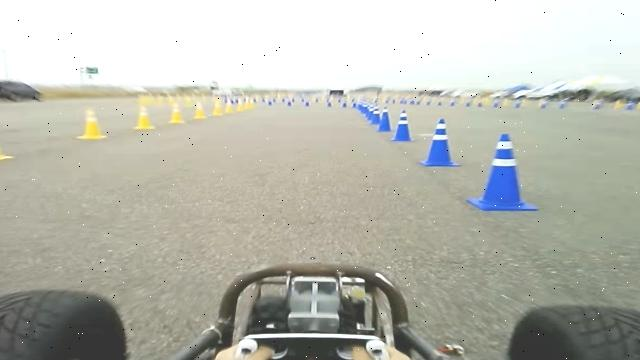blue cone: (467, 133, 539, 211), (420, 118, 462, 166), (391, 109, 415, 141), (377, 107, 393, 132)
yellow cone: (77, 107, 107, 140), (0, 119, 15, 161), (134, 105, 155, 130), (169, 106, 185, 124), (194, 101, 208, 119), (212, 96, 223, 116), (225, 98, 234, 113), (245, 96, 255, 109), (236, 99, 245, 112)
